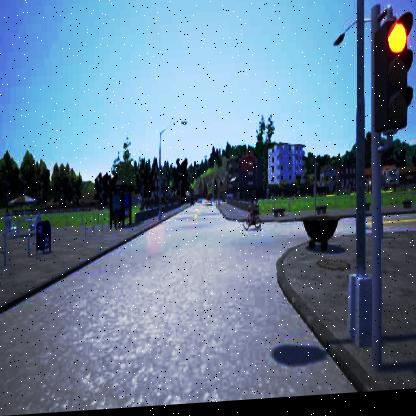bike: (243, 200, 261, 235)
